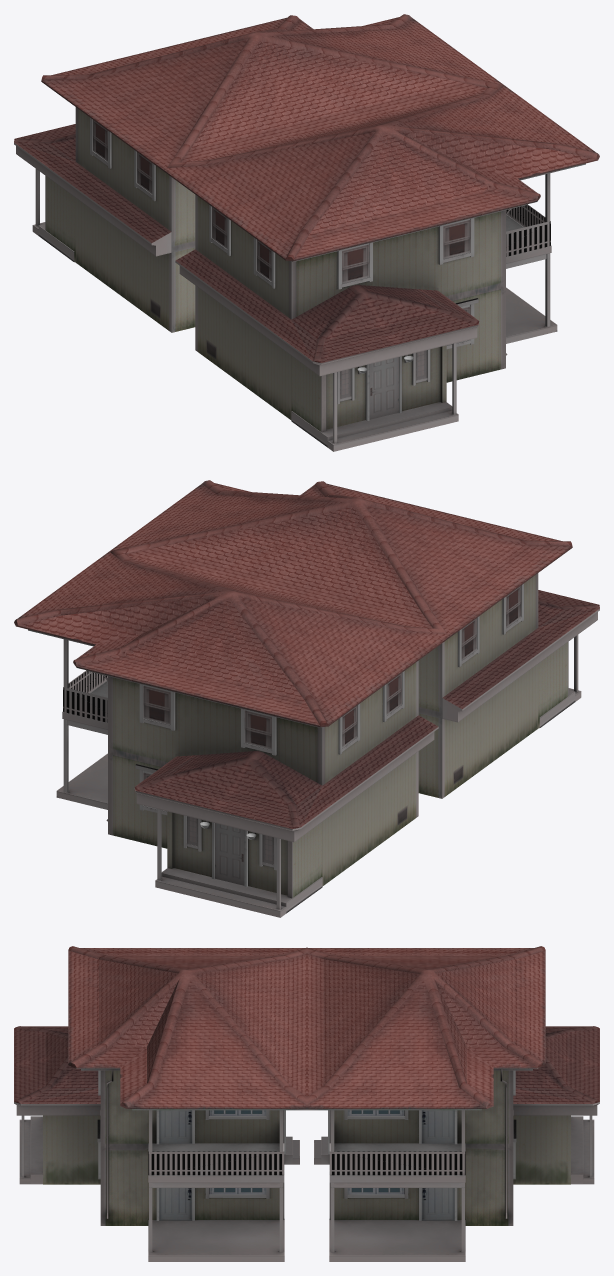
File: house16.obj
The picture shows the model from 3 angles, top to bottom: view 1: azimuth 30°, elevation 25°; view 2: azimuth 150°, elevation 25°; view 3: azimuth 270°, elevation 25°; orthographic projection. The views are drawn at different scales.
Parts seen in each view (by area): view 1: City_building_022.001; view 2: City_building_022.001; view 3: City_building_022.001.
Boxes of the visible parts, x1,y1,x2,y2 form: City_building_022.001: [14, 14, 599, 451]; City_building_022.001: [14, 480, 599, 917]; City_building_022.001: [14, 946, 599, 1261].
Bounding box in the file's own units: 2.61 × 1.66 × 4.05.
Materials: 1 (1 with a texture image).
